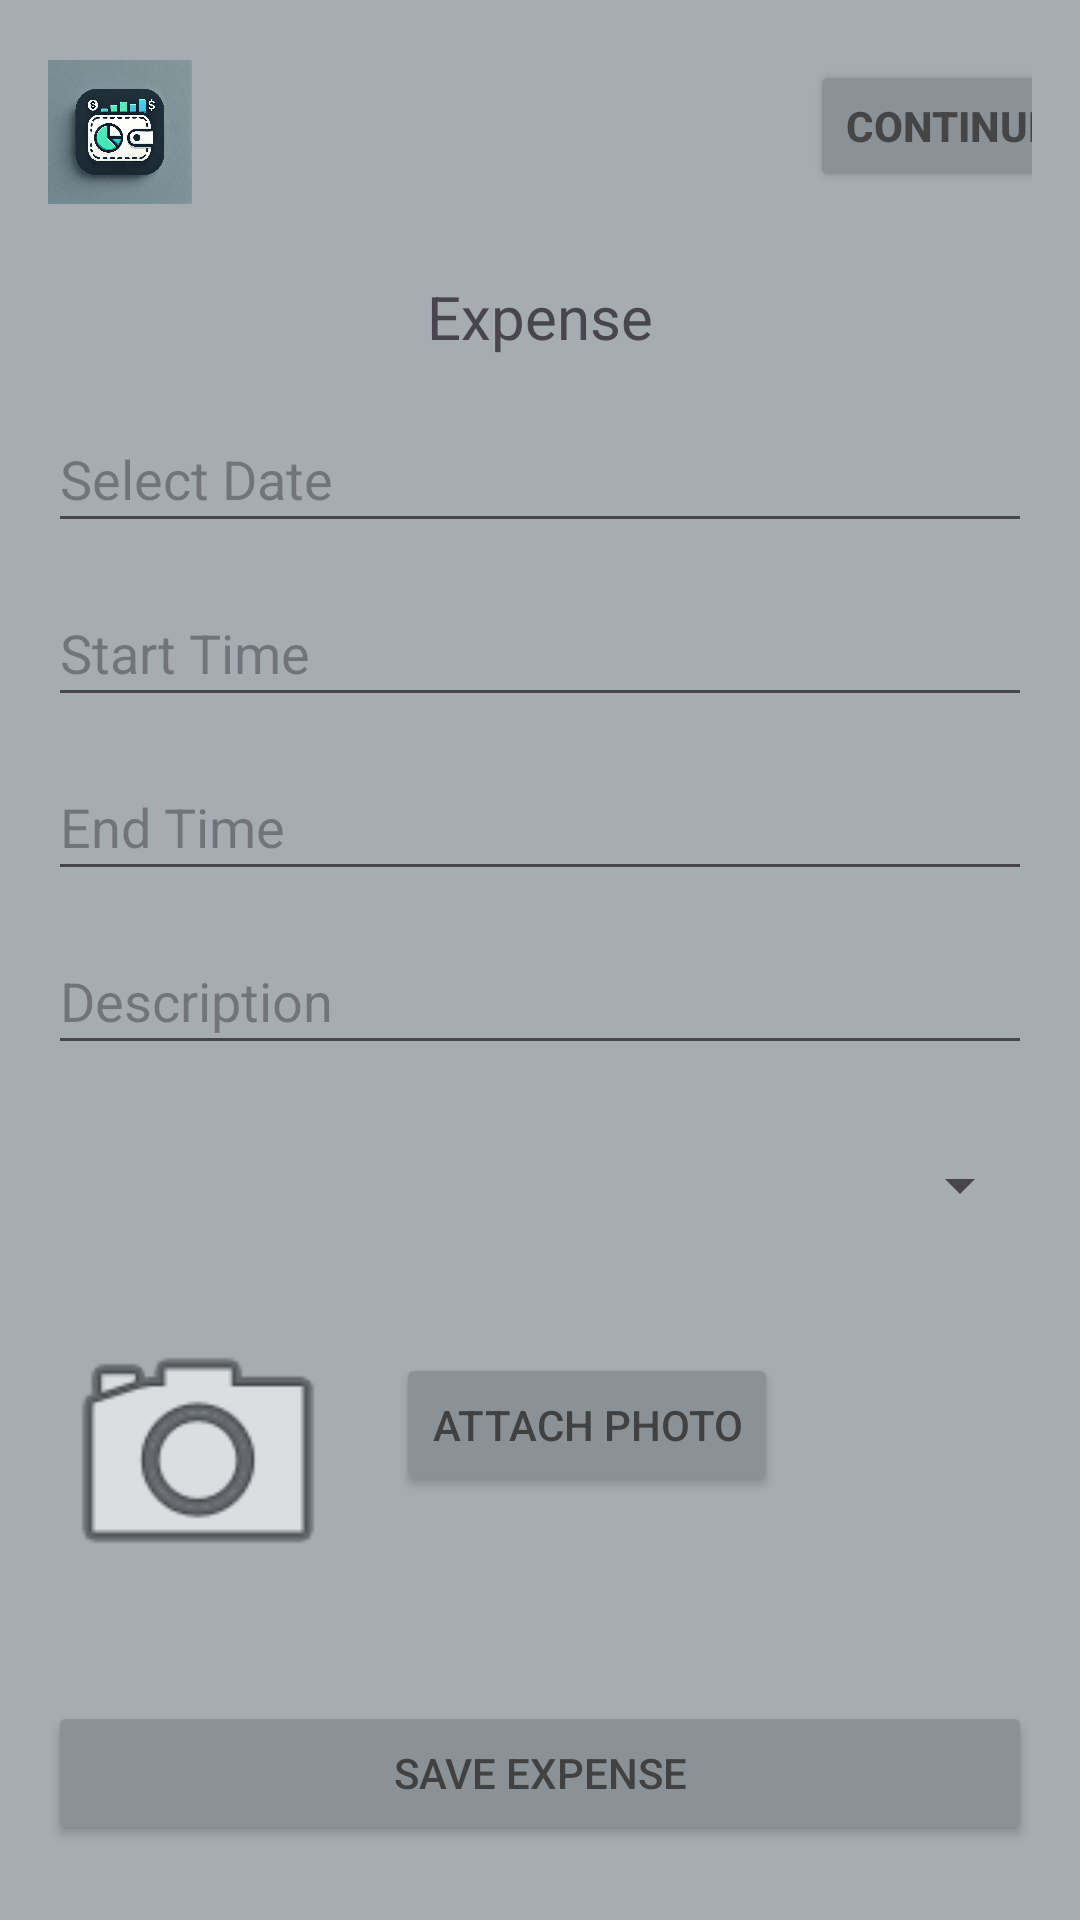

Icons on this 1080px x 1920px Android screen, each with its box as (x1, y1, x2, y2):
camera: (82, 1358, 314, 1542)
